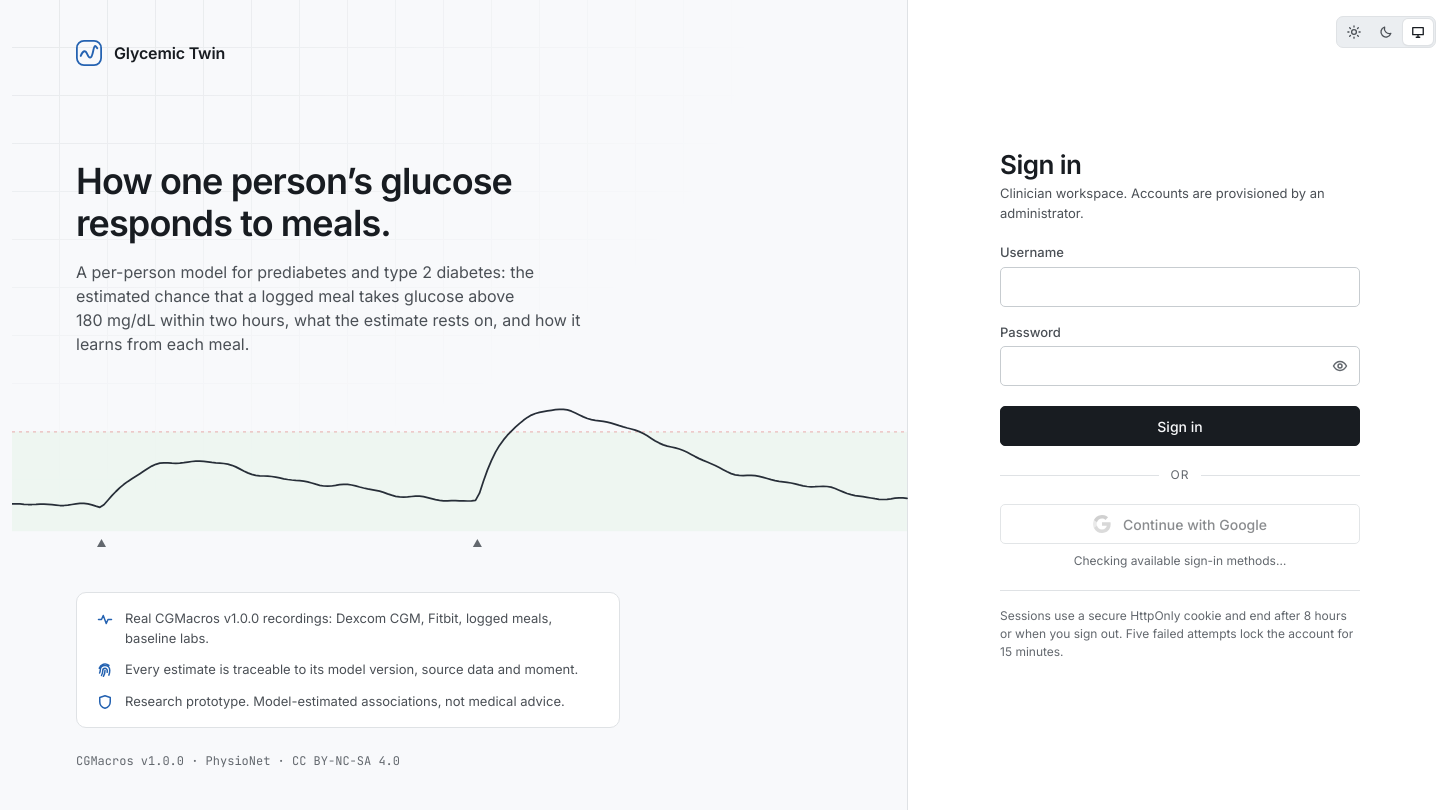
Test: sign-in screen › explains wrong credentials without saying which part was wrong
Step 1. Type "qa.clinician" into the field labelled "Username" → coordinates (1180, 287), box [1000,267,1360,307]
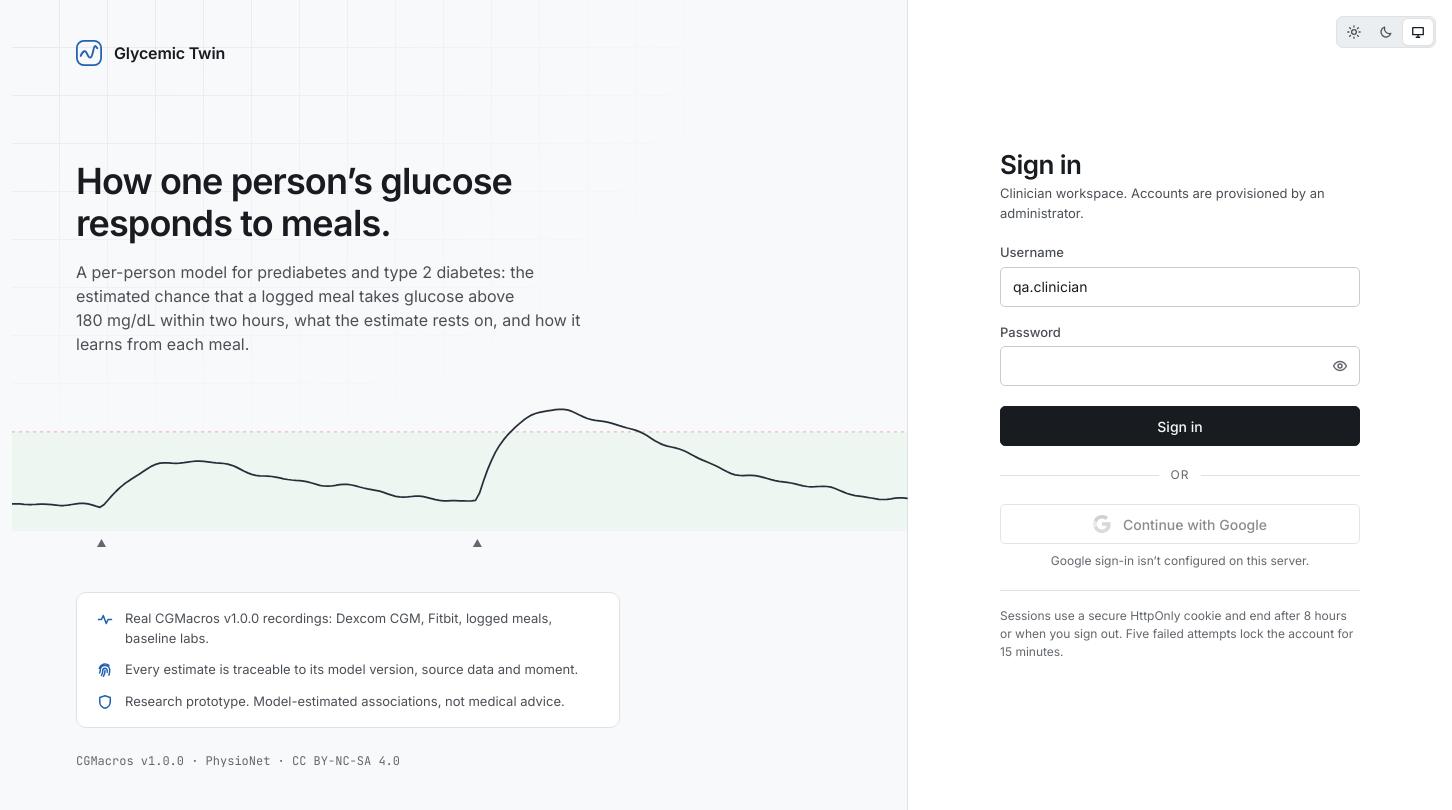
Step 2. Type "wrong-password" into the password field labelled "Password" → coordinates (1180, 366), box [1000,346,1360,386]
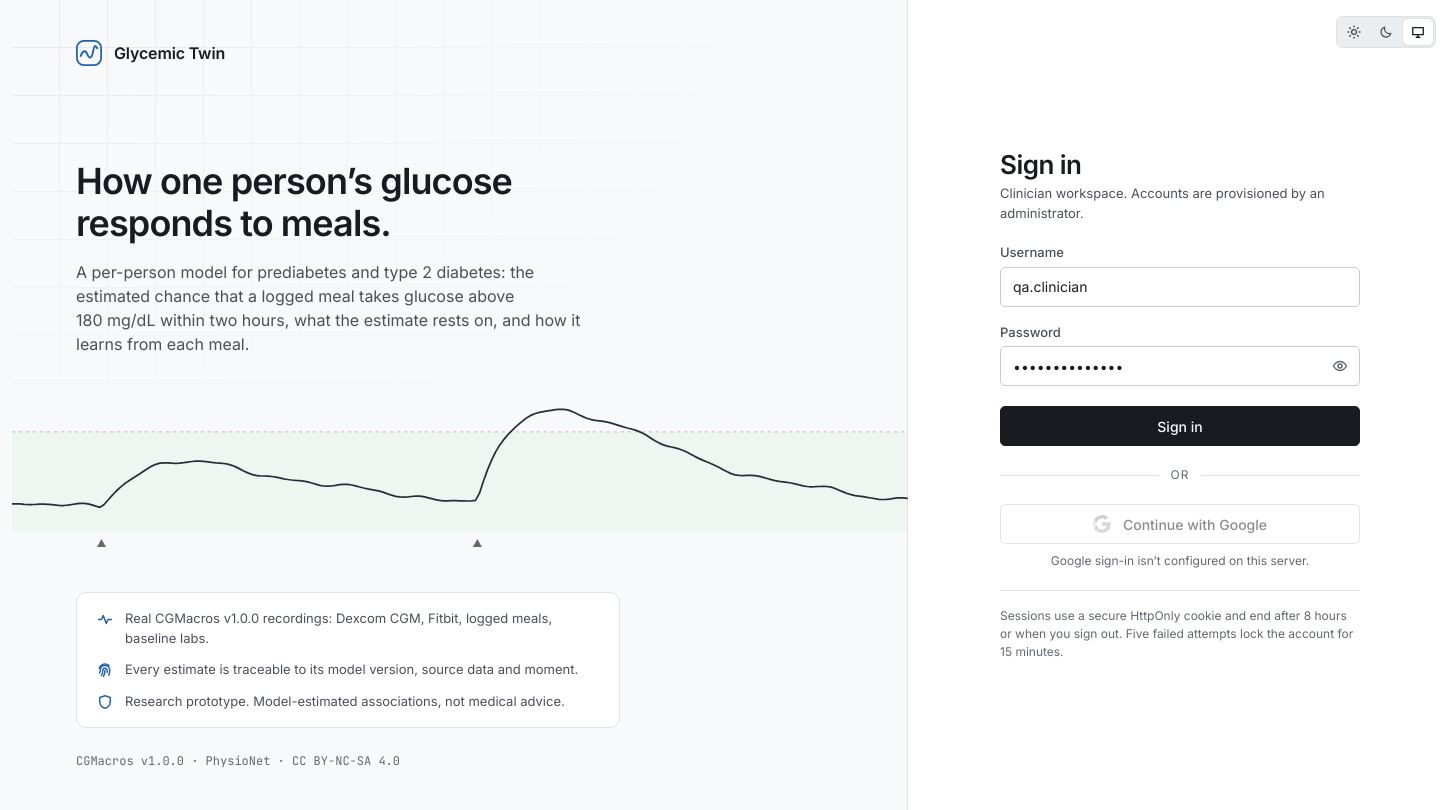
Step 3. Click the button "Sign in" → coordinates (1180, 426), box [1000,406,1360,446]
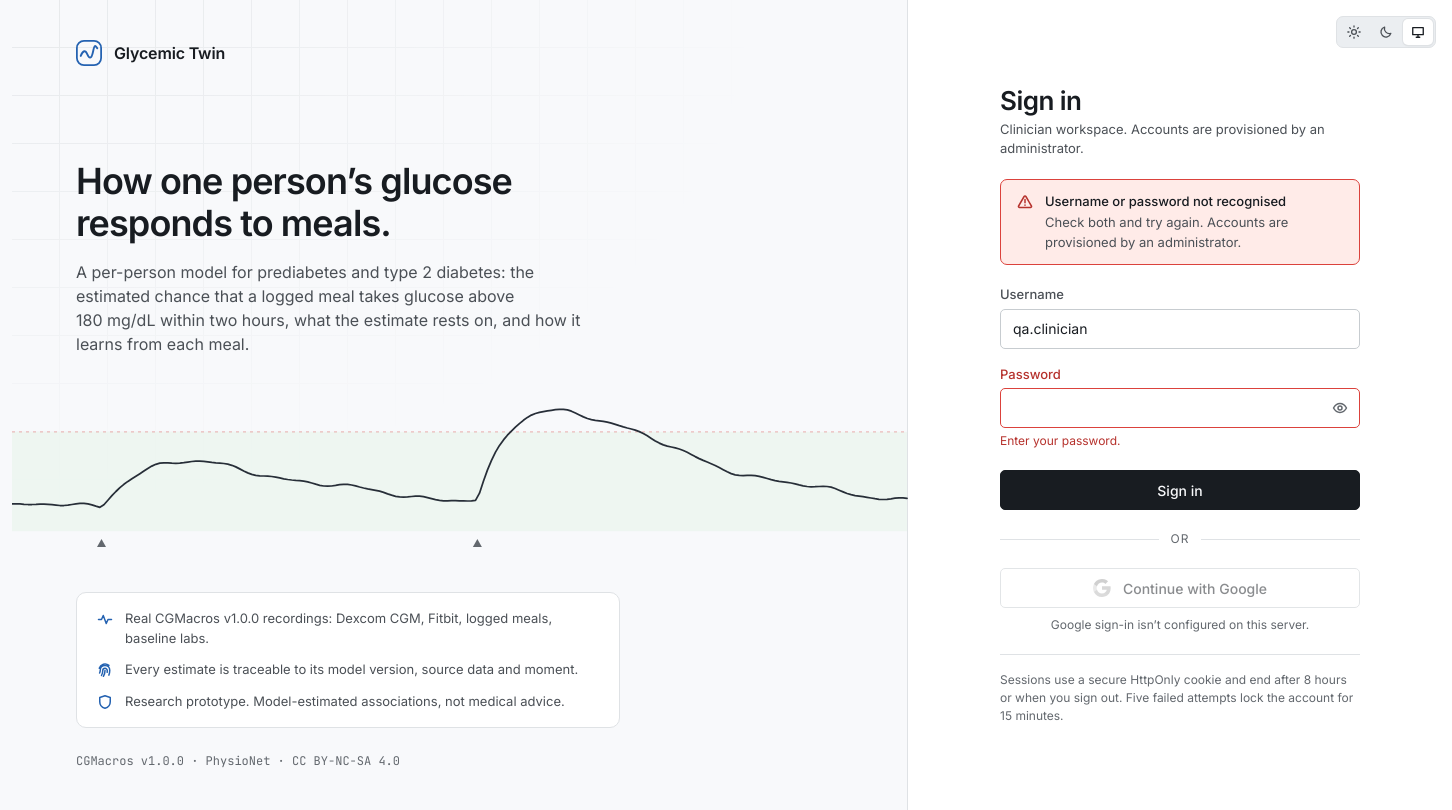
Expected: the message shows "Username or password not recognised", [1045,193,1286,209]
Expected: the password field labelled "Password" is empty, [1000,388,1360,428]
